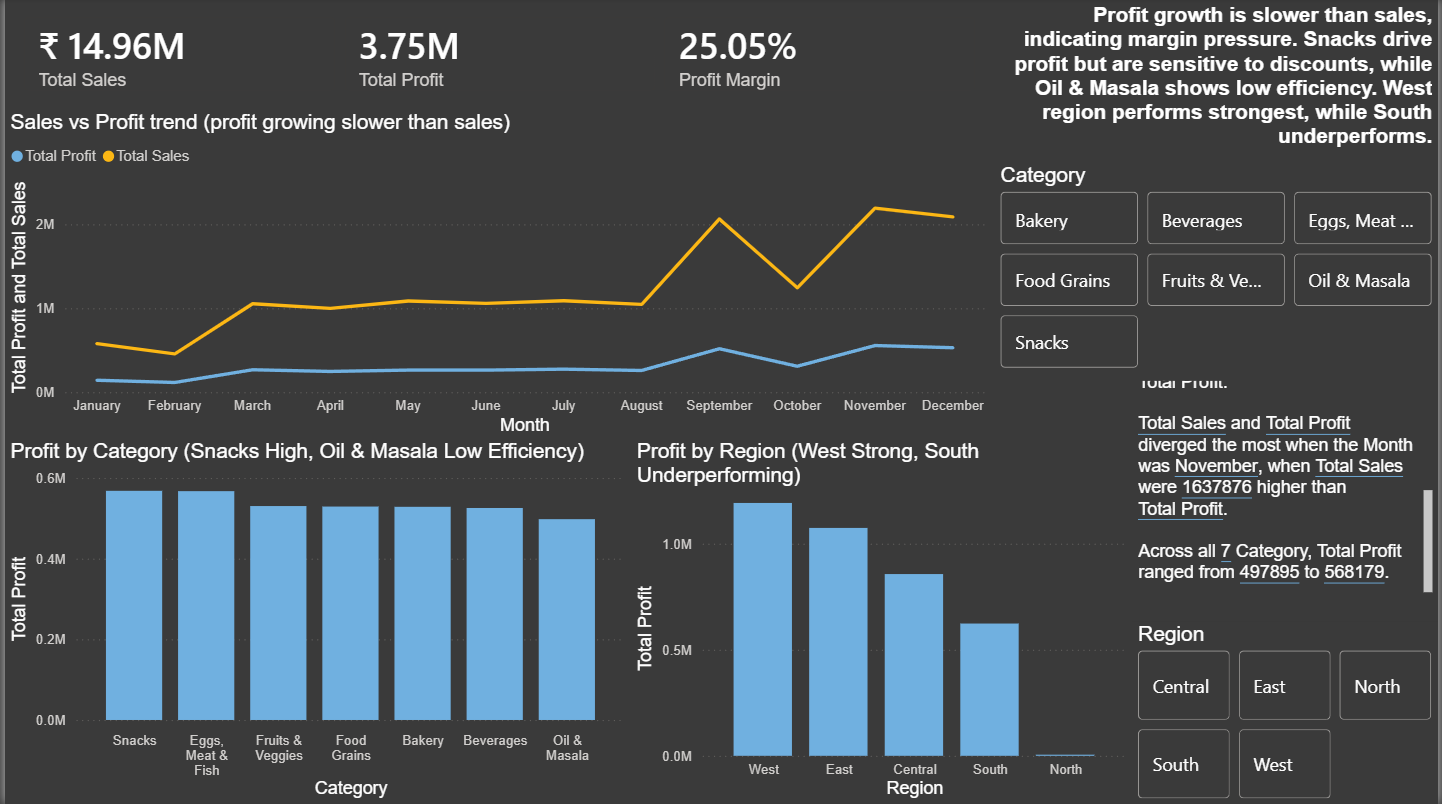

The page's visual inventory and layout, read from the dashboard file:
{"tool":"powerbi","page":{"name":"Page 1","canvas":[1280,720],"ordinal":0},"visuals":[{"type":"cardVisual","fields":{"Data":["sales.Total Sales","sales.Total Profit","sales.Profit Margin"]},"box":[0,0,884.3,100],"z":0},{"type":"lineChart","title":"Sales vs Profit trend (profit growing slower than sales)","fields":{"Category":["sales.Month Year.Variation.Date Hierarchy.Month"],"Y":["sales.Total Profit","sales.Total Sales"]},"box":[0,100,883.7,294.2],"z":1000},{"type":"clusteredColumnChart","title":"Profit by Category (Snacks High, Oil & Masala Low Efficiency)","fields":{"Category":["sales.Category"],"Y":["sales.Total Profit"]},"box":[0,394.2,559.3,325.6],"z":2000},{"type":"columnChart","title":"Profit by Region (West Strong, South Underperforming)","fields":{"Category":["sales.Region"],"Y":["sales.Total Profit"]},"box":[559.3,394.2,447.7,325.6],"z":3000},{"type":"advancedSlicerVisual","fields":{"Values":["sales.Category"]},"box":[884.3,147.1,395.7,190],"z":4000},{"type":"advancedSlicerVisual","fields":{"Values":["sales.Region"]},"box":[1007.1,557.1,272.9,162.9],"z":5000},{"type":"textbox","box":[884.3,0,395.7,147.1],"z":5001},{"type":"textbox","box":[1007.1,337.1,272.9,208.6],"z":5002}]}

Visuals, with their boxes in screenshot pixels (x1, y1, x2, y2), scaled from the page's 1280x720 canvas onto the 1442x804 screenshot:
cardVisual - sales.Total Sales x sales.Total Profit: [0,0,996,112]
"Sales vs Profit trend (profit growing slower than sales)" lineChart: [0,112,996,440]
"Profit by Category (Snacks High, Oil & Masala Low Efficiency)" clusteredColumnChart: [0,440,630,803]
"Profit by Region (West Strong, South Underperforming)" columnChart: [630,440,1134,803]
advancedSlicerVisual - sales.Category: [996,164,1441,376]
advancedSlicerVisual - sales.Region: [1135,622,1441,803]
textbox: [996,0,1441,164]
textbox: [1135,376,1441,609]
